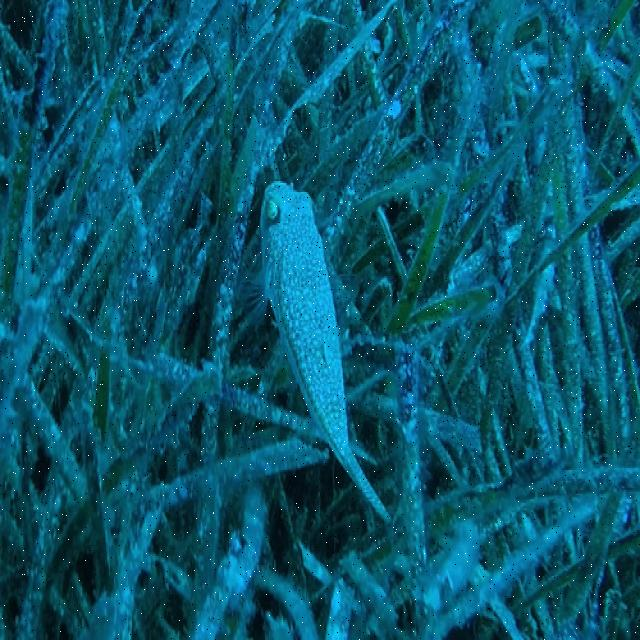Balik: (262, 183, 389, 521)
